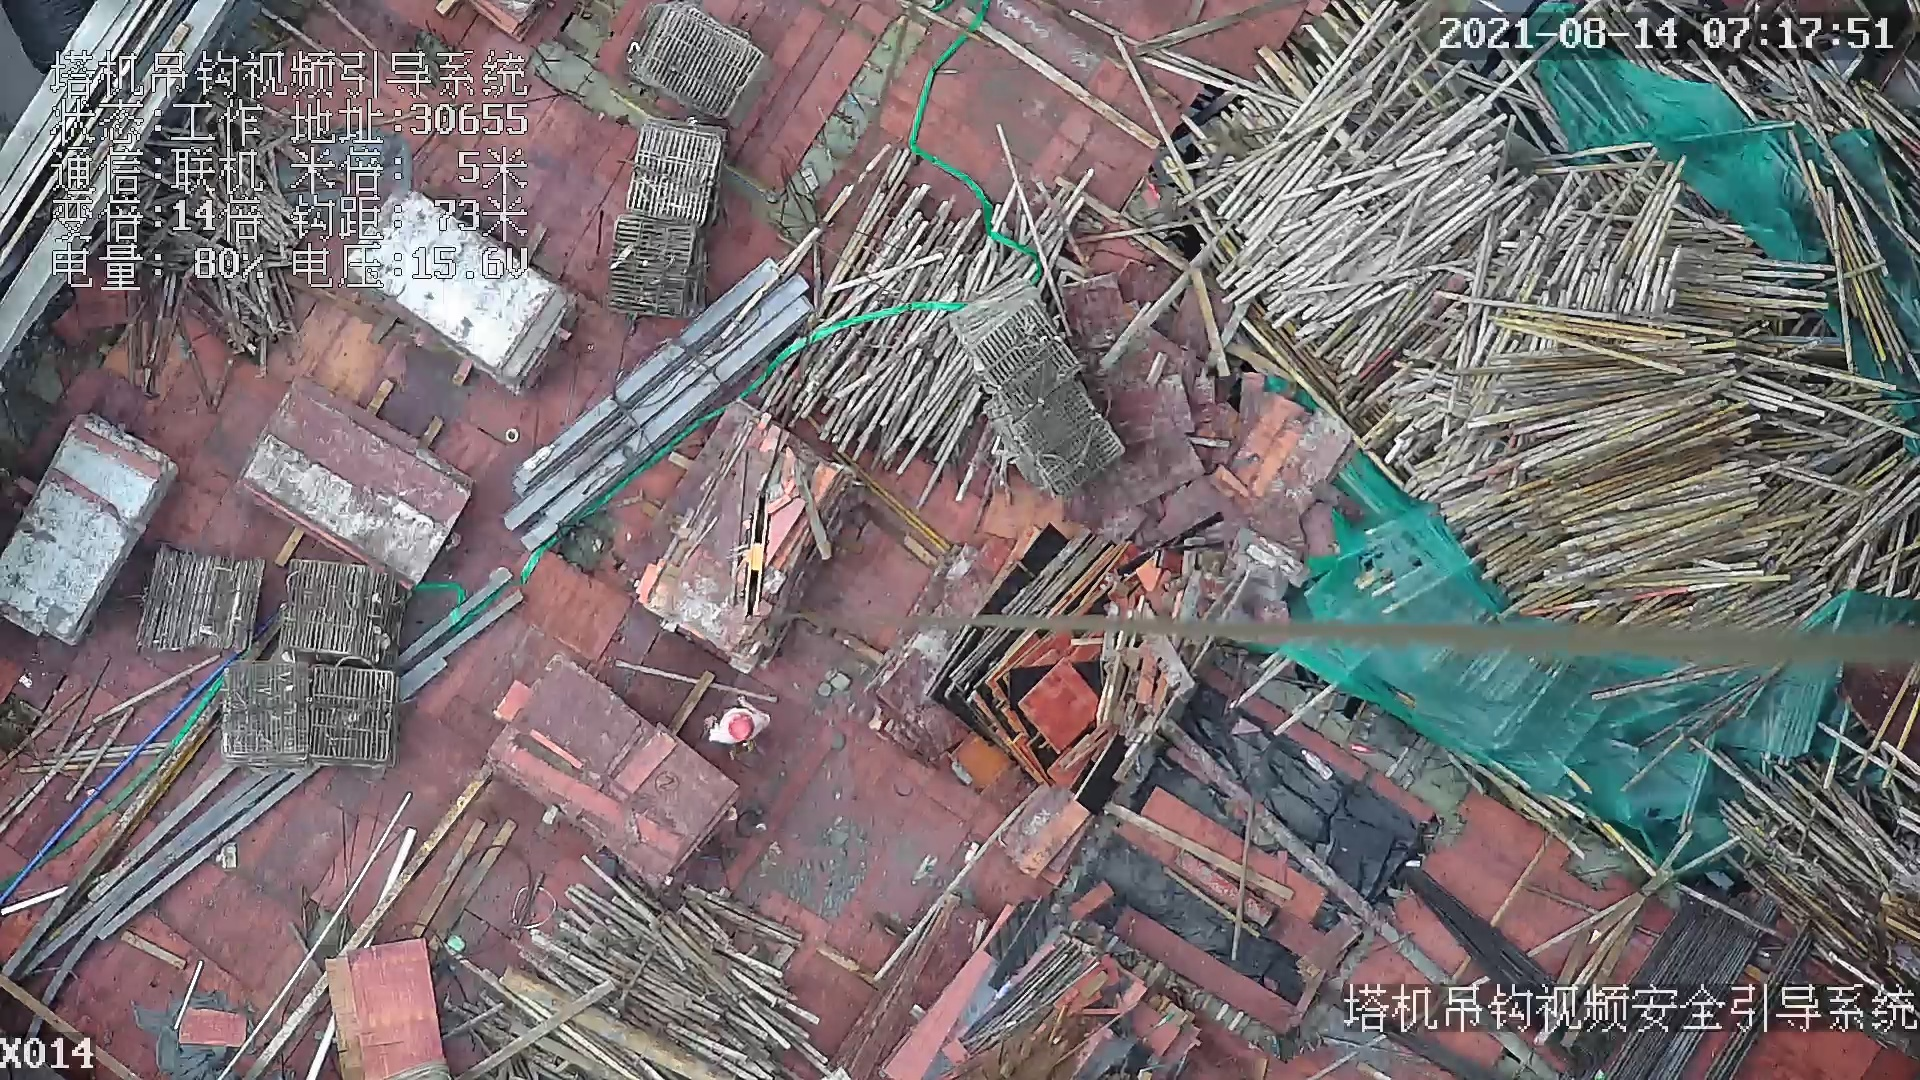helmet: (726, 712, 752, 743)
hook: (731, 494, 777, 619)
person: (699, 697, 788, 751)
